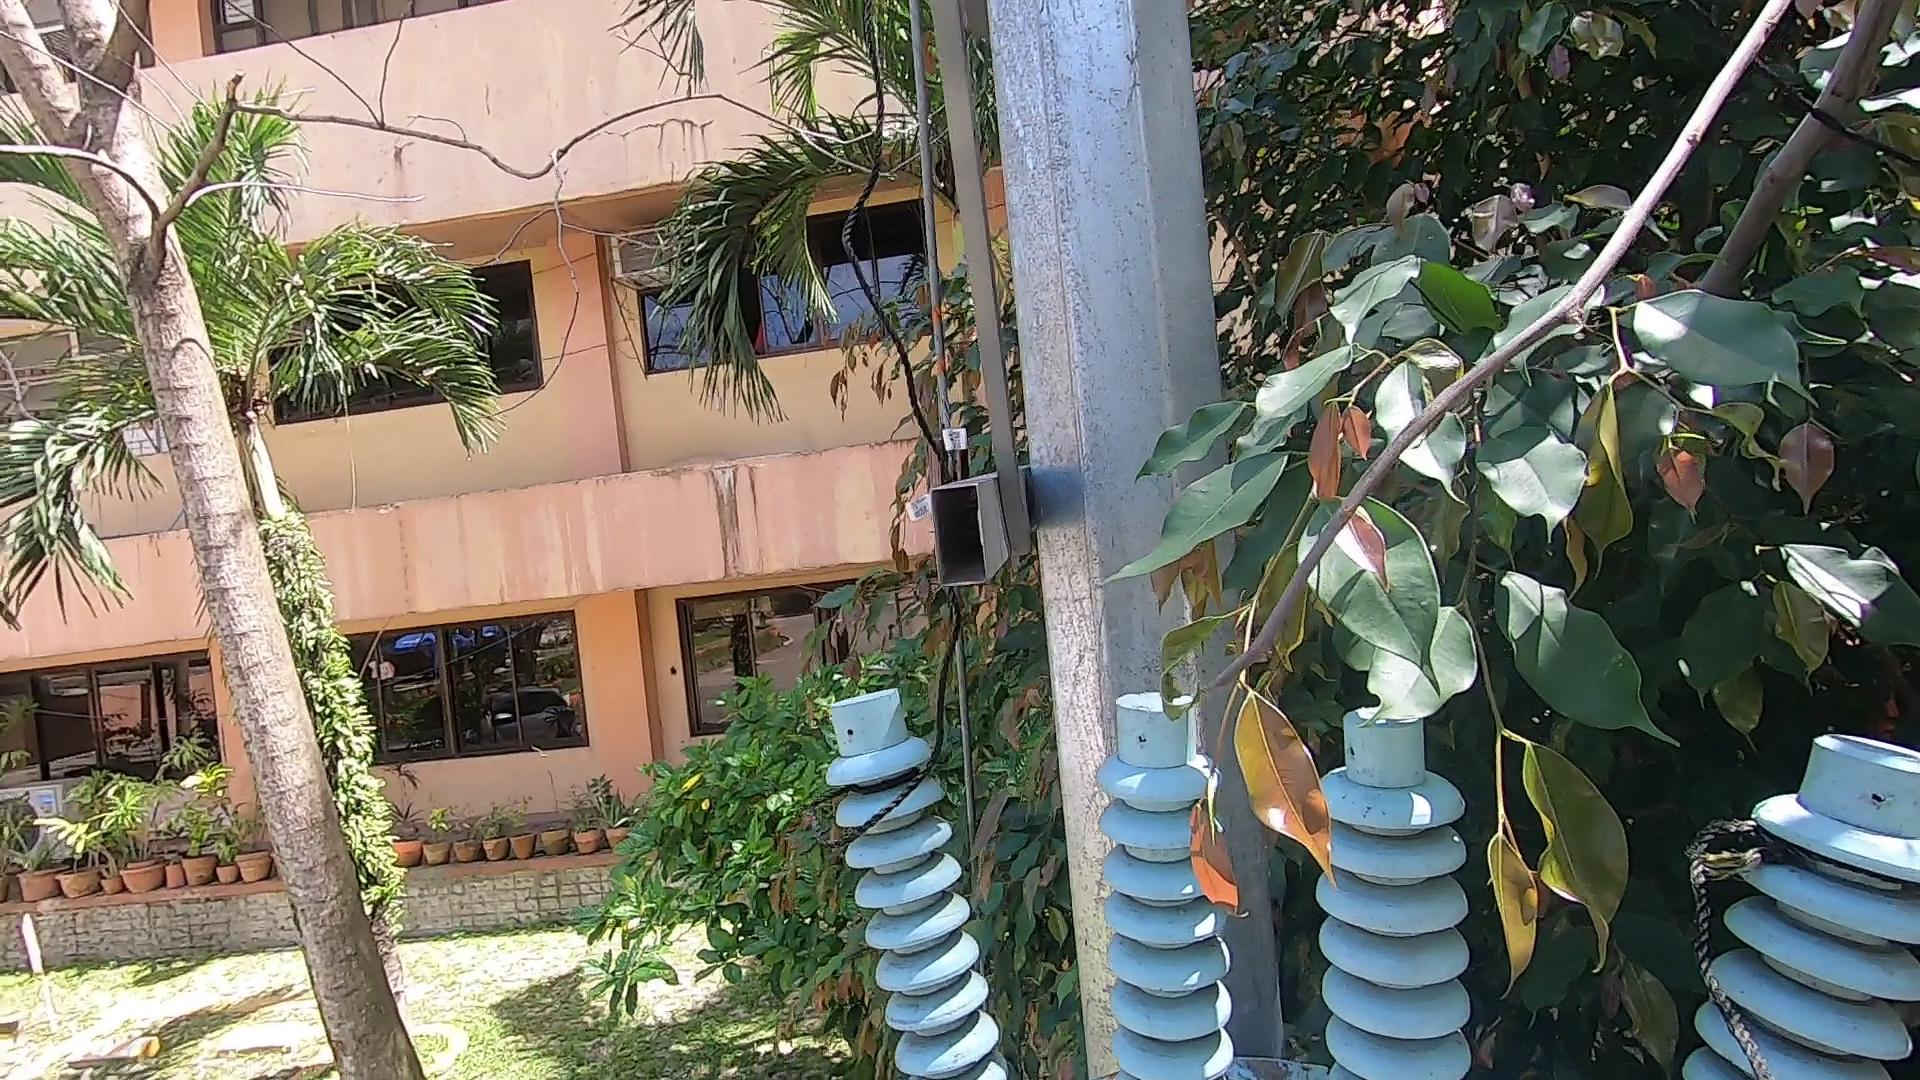tree branch: (1203, 1, 1916, 704)
